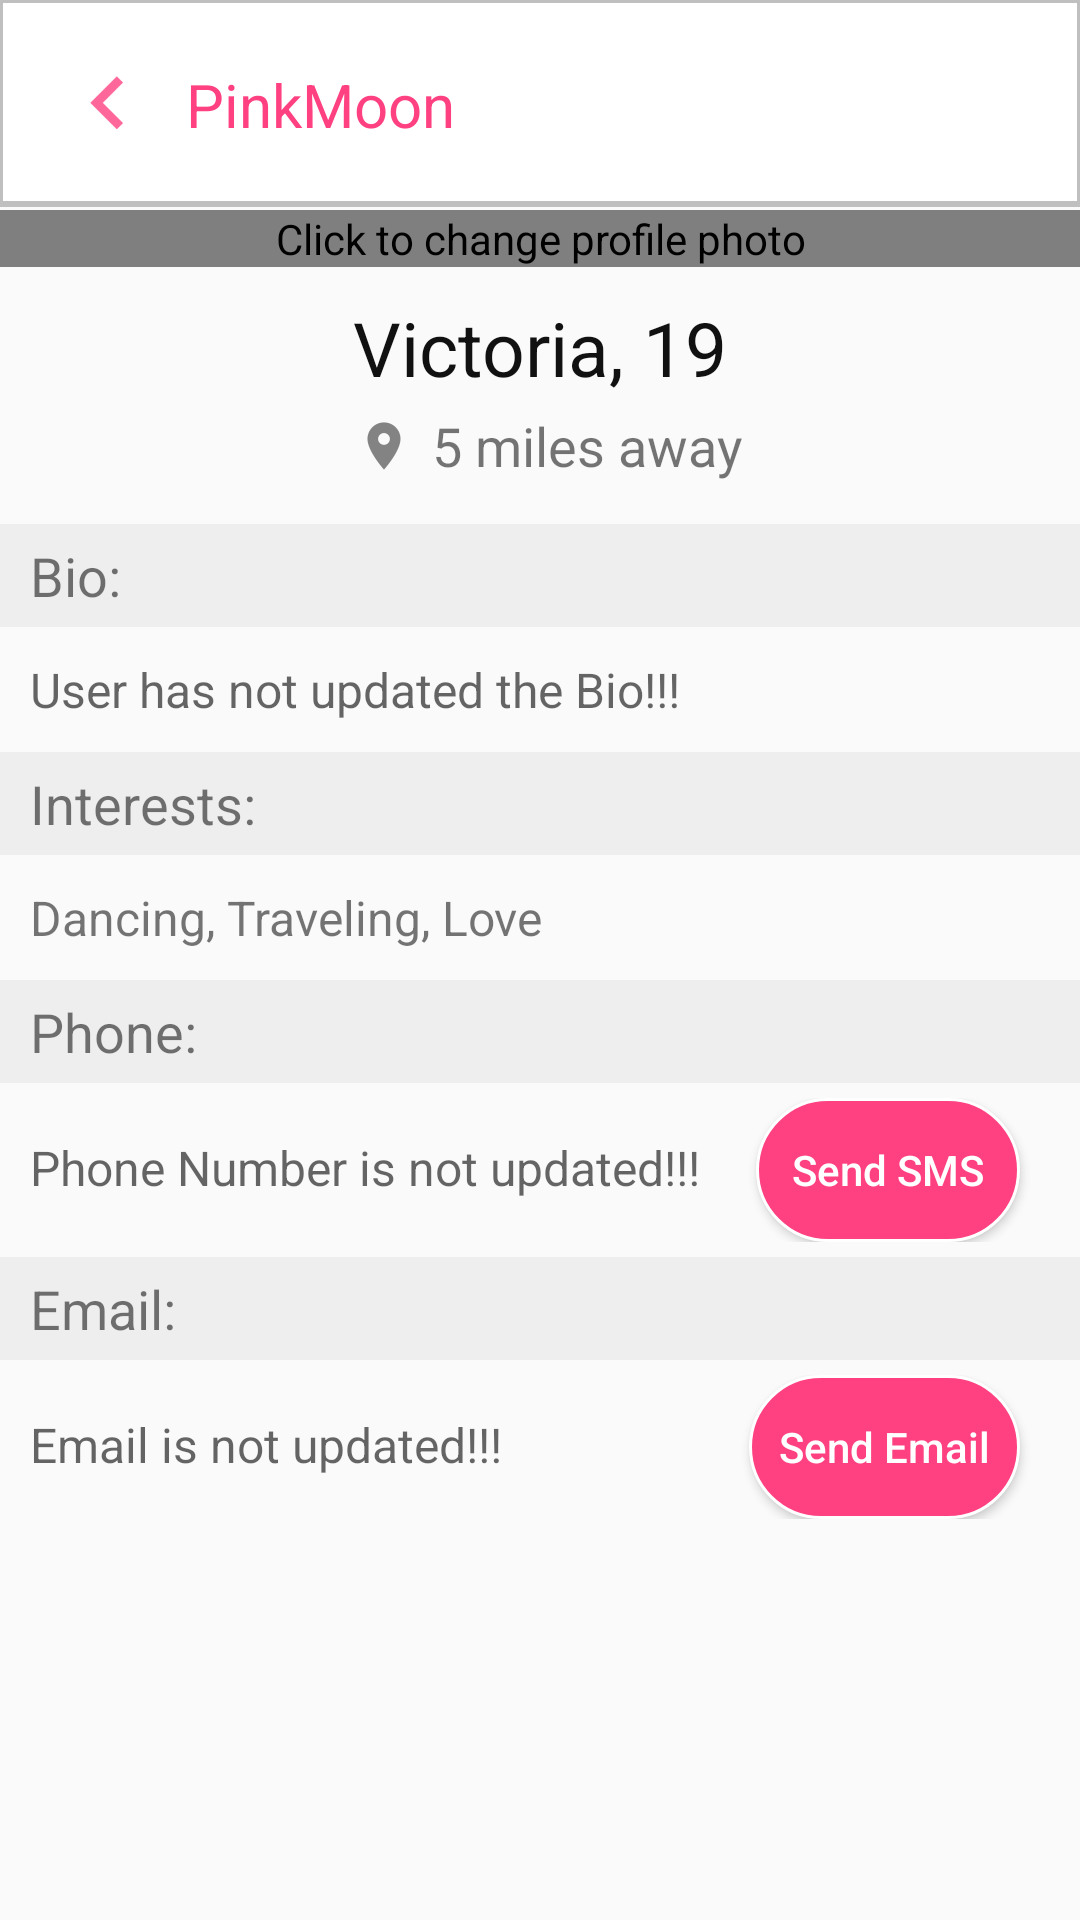

Icons on this 1080 x 1920 Android screen, each with its box as [x1=x1, y1=y1, x2=x2, y2=y2]:
backarrow: [x1=90, y1=76, x2=123, y2=129]
